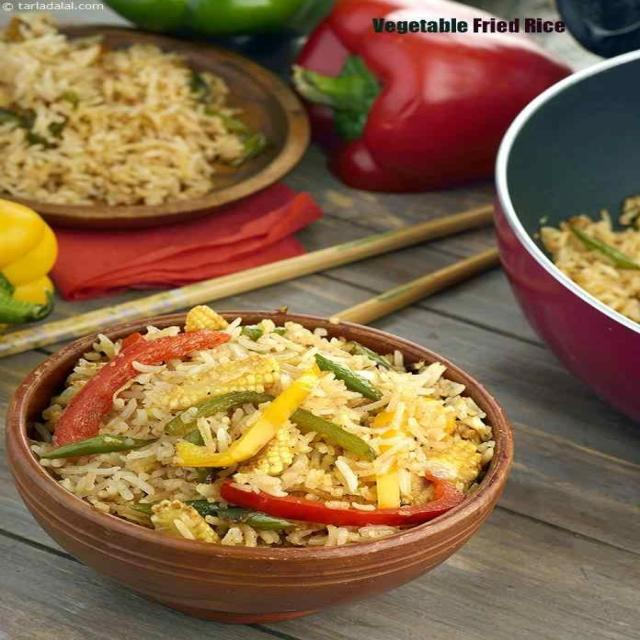Nasi Goreng: (29, 304, 497, 548)
